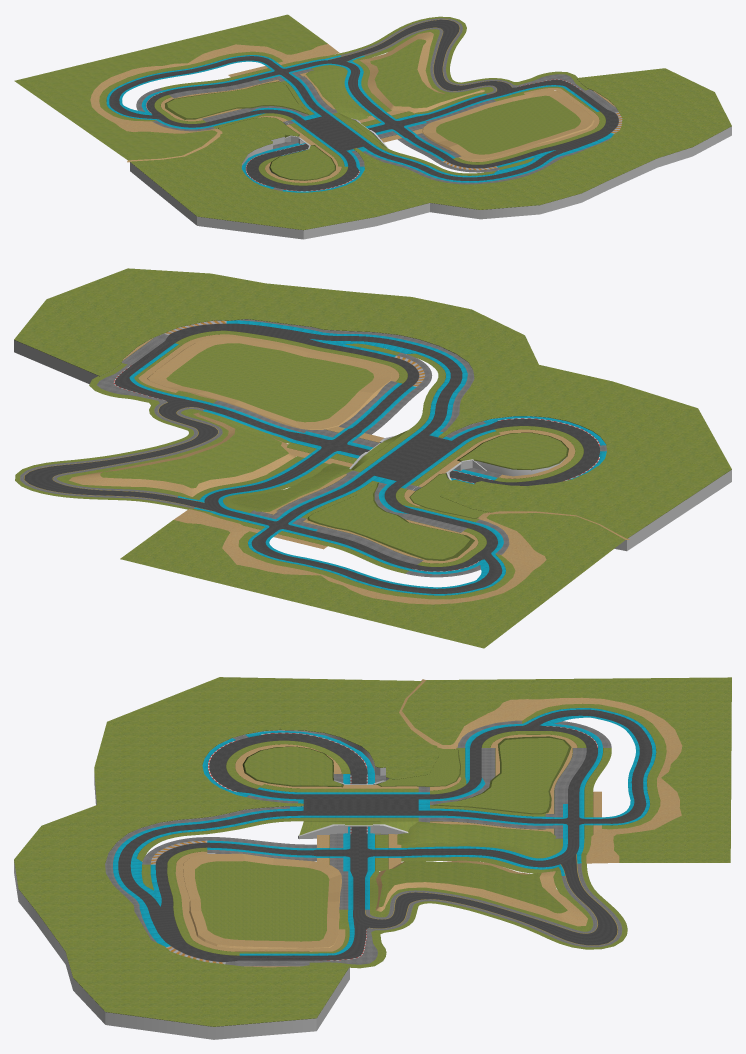
File: race_track.fbx
The picture shows the model from 3 angles, top to bottom: view 1: azimuth 30°, elevation 25°; view 2: azimuth 150°, elevation 25°; view 3: azimuth 270°, elevation 25°; orthographic projection. The views are drawn at different scales.
Visible parts, largest first — view 1: polySurface312, polySurface314, polySurface307, polySurface299, polySurface306, polySurface297, polySurface313, polySurface300, polySurface311, polySurface280, polySurface294, polySurface293 (+20 smaller); view 2: polySurface312, polySurface314, polySurface307, polySurface299, polySurface306, polySurface313, polySurface300, polySurface297, polySurface311, polySurface280, polySurface294, polySurface293 (+20 smaller); view 3: polySurface312, polySurface314, polySurface307, polySurface299, polySurface306, polySurface313, polySurface300, polySurface297, polySurface280, polySurface311, polySurface294, polySurface315 (+23 smaller).
Part boxes in pixels (x1,y1,x2,y2): polySurface312: (130, 68, 731, 239); polySurface314: (14, 14, 339, 162); polySurface307: (422, 90, 594, 159); polySurface299: (323, 16, 517, 101); polySurface306: (359, 32, 484, 113); polySurface297: (99, 51, 282, 121); polySurface313: (165, 81, 308, 119); polySurface300: (357, 143, 568, 184); polySurface311: (218, 117, 335, 180); polySurface280: (241, 149, 364, 192); polySurface294: (301, 56, 391, 116); polySurface293: (359, 110, 427, 142); polySurface312: (14, 268, 731, 551); polySurface314: (120, 509, 629, 648); polySurface307: (147, 337, 391, 429); polySurface299: (15, 395, 228, 514); polySurface306: (69, 412, 296, 496); polySurface313: (307, 483, 474, 560); polySurface300: (309, 328, 474, 437); polySurface297: (238, 531, 515, 599); polySurface311: (409, 432, 568, 518); polySurface280: (483, 416, 606, 485); polySurface294: (191, 456, 329, 522); polySurface293: (286, 426, 384, 466); polySurface312: (14, 677, 439, 1039); polySurface314: (399, 677, 731, 863); polySurface307: (183, 853, 341, 948); polySurface299: (339, 852, 627, 949); polySurface306: (375, 860, 587, 926); polySurface313: (432, 736, 571, 814); polySurface300: (105, 806, 303, 908); polySurface297: (522, 703, 666, 829); polySurface280: (202, 730, 374, 796); polySurface311: (242, 746, 460, 787); polySurface294: (401, 838, 591, 873); polySurface315: (397, 821, 555, 854).
Size of the model in its own units: 393 by 7.63 by 341.
